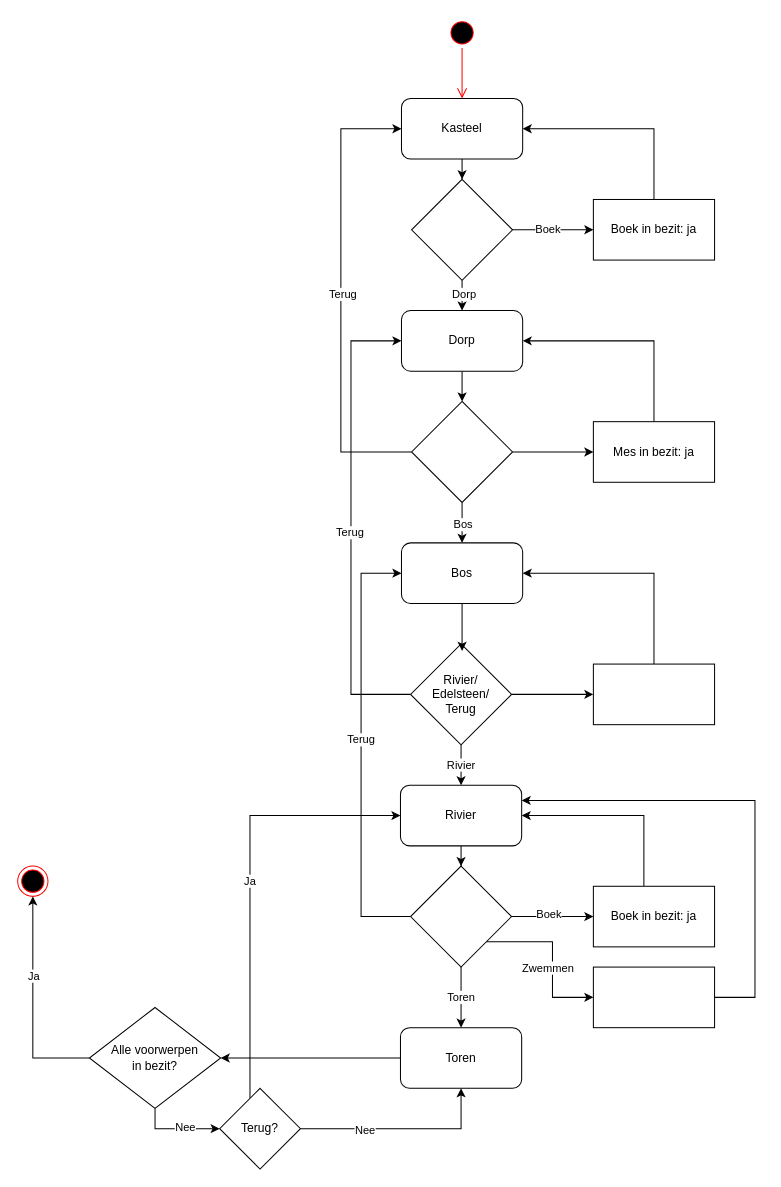
This 781x1187 diagram has some shape labels left out. The shapes that lost their labels are listed below. From the top down, each one's centre as x and y in pixels, then its label:
the point at 462,229: Dorp/Boek?
the point at 462,451: Bos/Mes/Terug
the point at 653,694: Edelsteen in bezit: ja
the point at 461,916: Toren/ Boek/ Zwemmen/ Terug
the point at 653,997: Sleutel in bezit: ja
